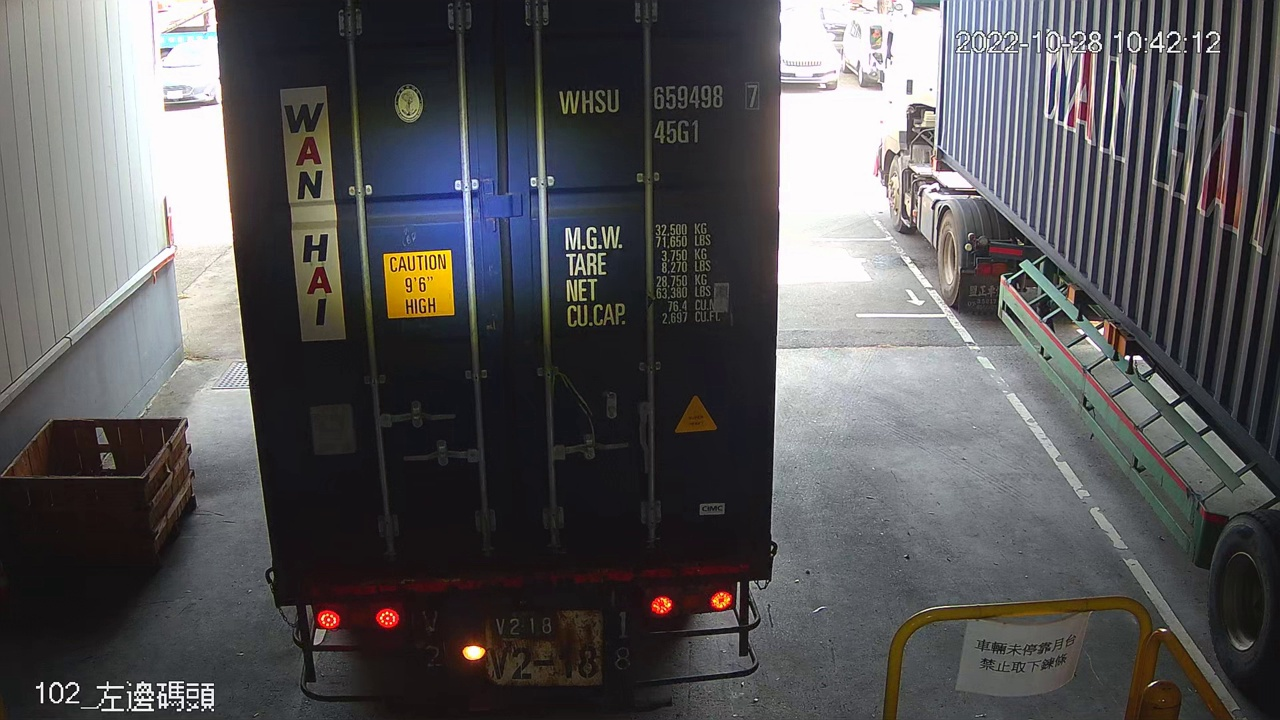container: (552, 75, 766, 150)
